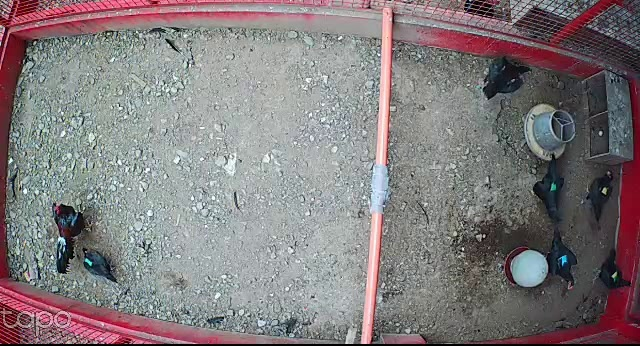Chicken: (574, 167, 616, 231), (530, 153, 566, 225), (479, 58, 534, 99), (543, 227, 577, 291), (592, 248, 633, 294), (81, 245, 121, 284)
Drinker: (506, 247, 547, 288)
Feeder: (527, 103, 576, 159)
Rooster: (49, 198, 98, 285)
Saddle_Color_Blue: (557, 253, 569, 267)
Saddle_Color_Green: (549, 182, 557, 190)
Saddle_Color_Yellow: (601, 185, 609, 194)
Saddle_Color_YellowGreen: (610, 272, 617, 282)
